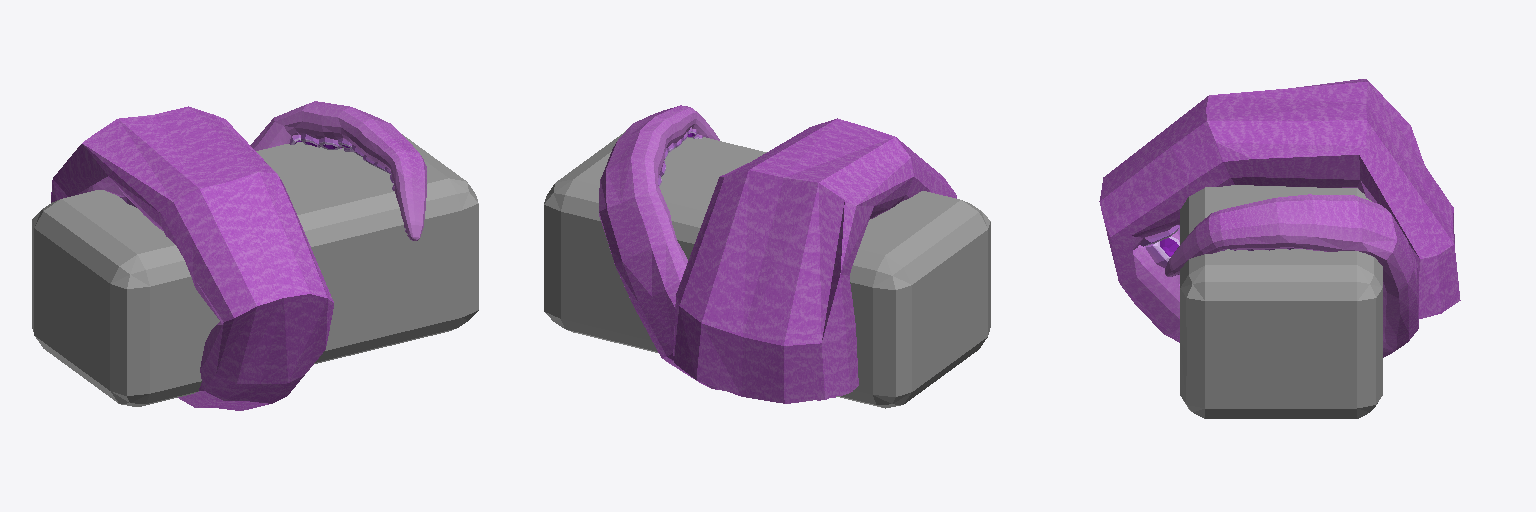
3 renders of one model, left to right at view 1: azimuth 30°, elevation 25°; view 2: azimuth 150°, elevation 25°; view 3: azimuth 270°, elevation 25°, orthographic.
Visible parts, largest first — view 1: OriginalBrick.016_Cube.029, OriginalBrick.017_Cube.030; view 2: OriginalBrick.017_Cube.030, OriginalBrick.016_Cube.029; view 3: OriginalBrick.017_Cube.030, OriginalBrick.016_Cube.029.
Boxes of the visible parts, box(x1,y1,x2,y2) form: OriginalBrick.016_Cube.029: box(32, 134, 478, 406); OriginalBrick.017_Cube.030: box(51, 101, 426, 410); OriginalBrick.017_Cube.030: box(599, 105, 956, 403); OriginalBrick.016_Cube.029: box(544, 131, 990, 408); OriginalBrick.017_Cube.030: box(1099, 79, 1460, 357); OriginalBrick.016_Cube.029: box(1180, 185, 1382, 418).
Size of the model in its own units: 0.9 by 0.6034 by 0.7694.
2 materials, 1 textured.